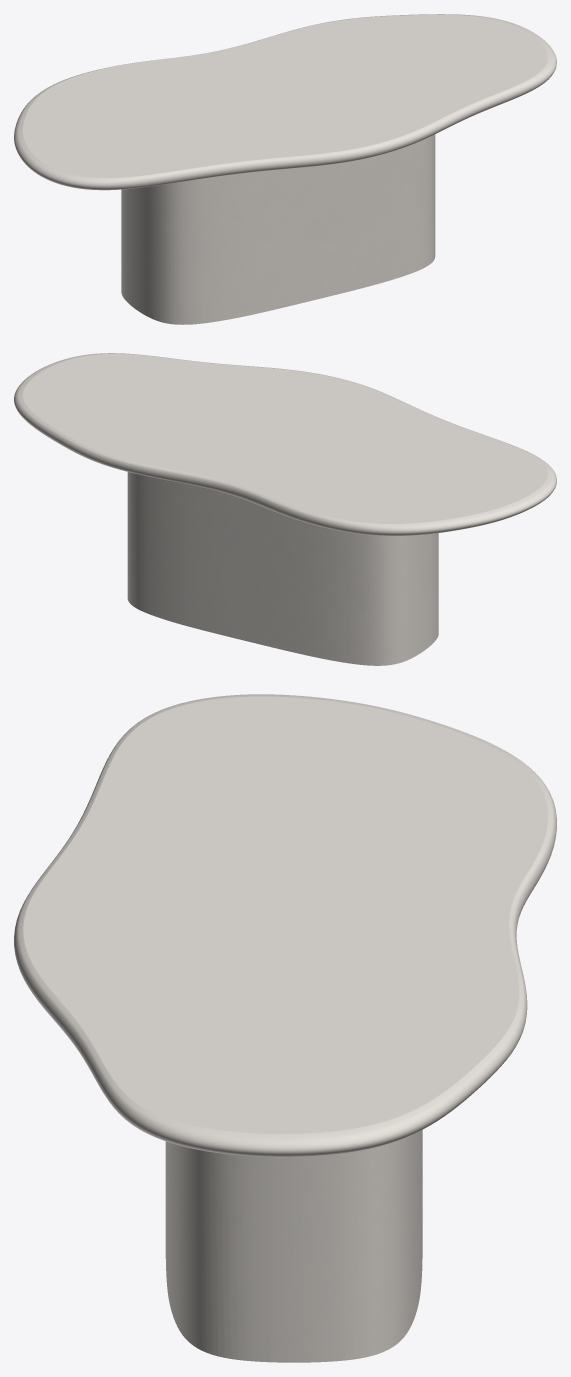
The model's file is pearlwhite_toplast_round_fixed.glb.
3 views of the same model, one above another, from view 1: azimuth 30°, elevation 25°; view 2: azimuth 150°, elevation 25°; view 3: azimuth 270°, elevation 25° (orthographic). The views are drawn at different scales.
Visible parts, largest first — view 1: round_toplast, fixed; view 2: round_toplast, fixed; view 3: round_toplast, fixed.
Part boxes in pixels (<box>): round_toplast: <box>14,14,556,190</box>; fixed: <box>121,134,435,324</box>; round_toplast: <box>14,353,556,535</box>; fixed: <box>127,472,438,665</box>; round_toplast: <box>14,694,556,1157</box>; fixed: <box>165,1130,422,1362</box>.
Bounding box in the file's own units: 7.5 × 2.5 × 3.8.
Materials: 1 (1 with a texture image).
